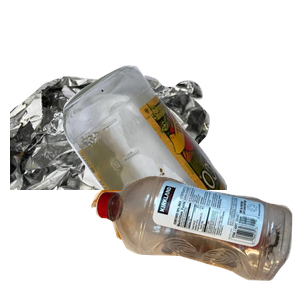glass: (60, 63, 300, 243)
metal: (10, 73, 212, 253)
plastic: (93, 173, 300, 300)
trash: (88, 177, 251, 300)
